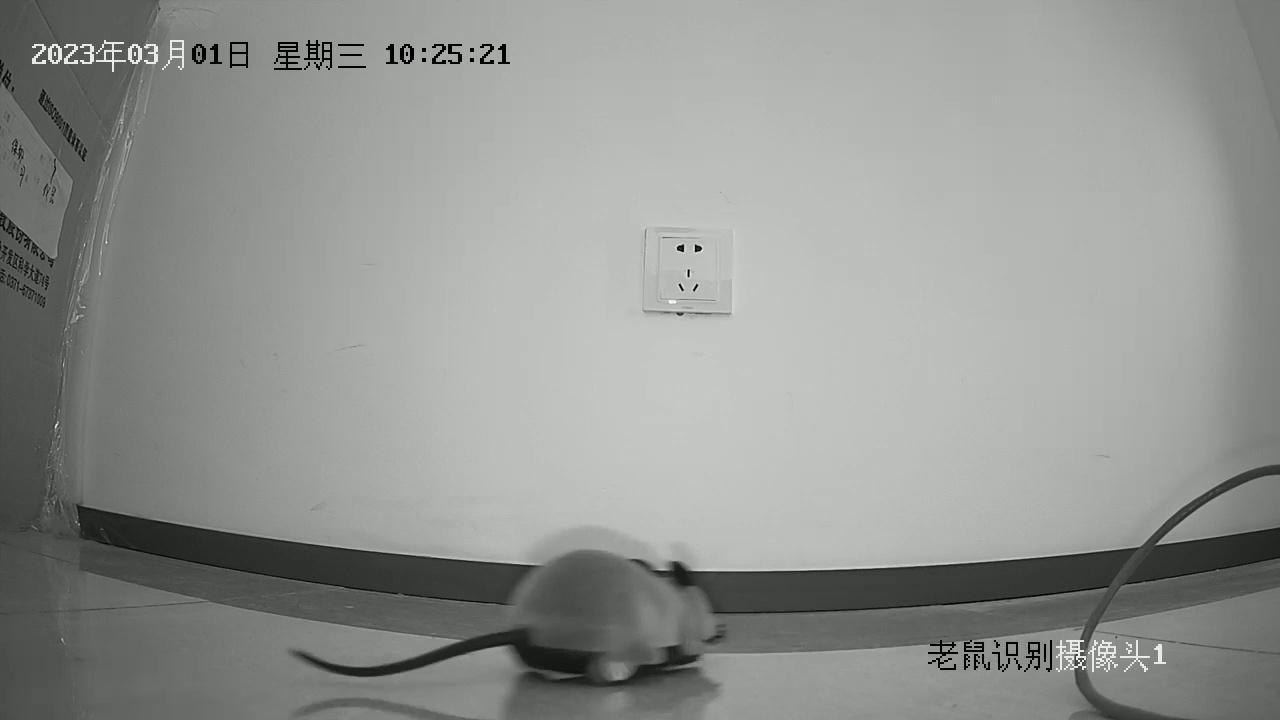rat: (290, 549, 718, 687)
